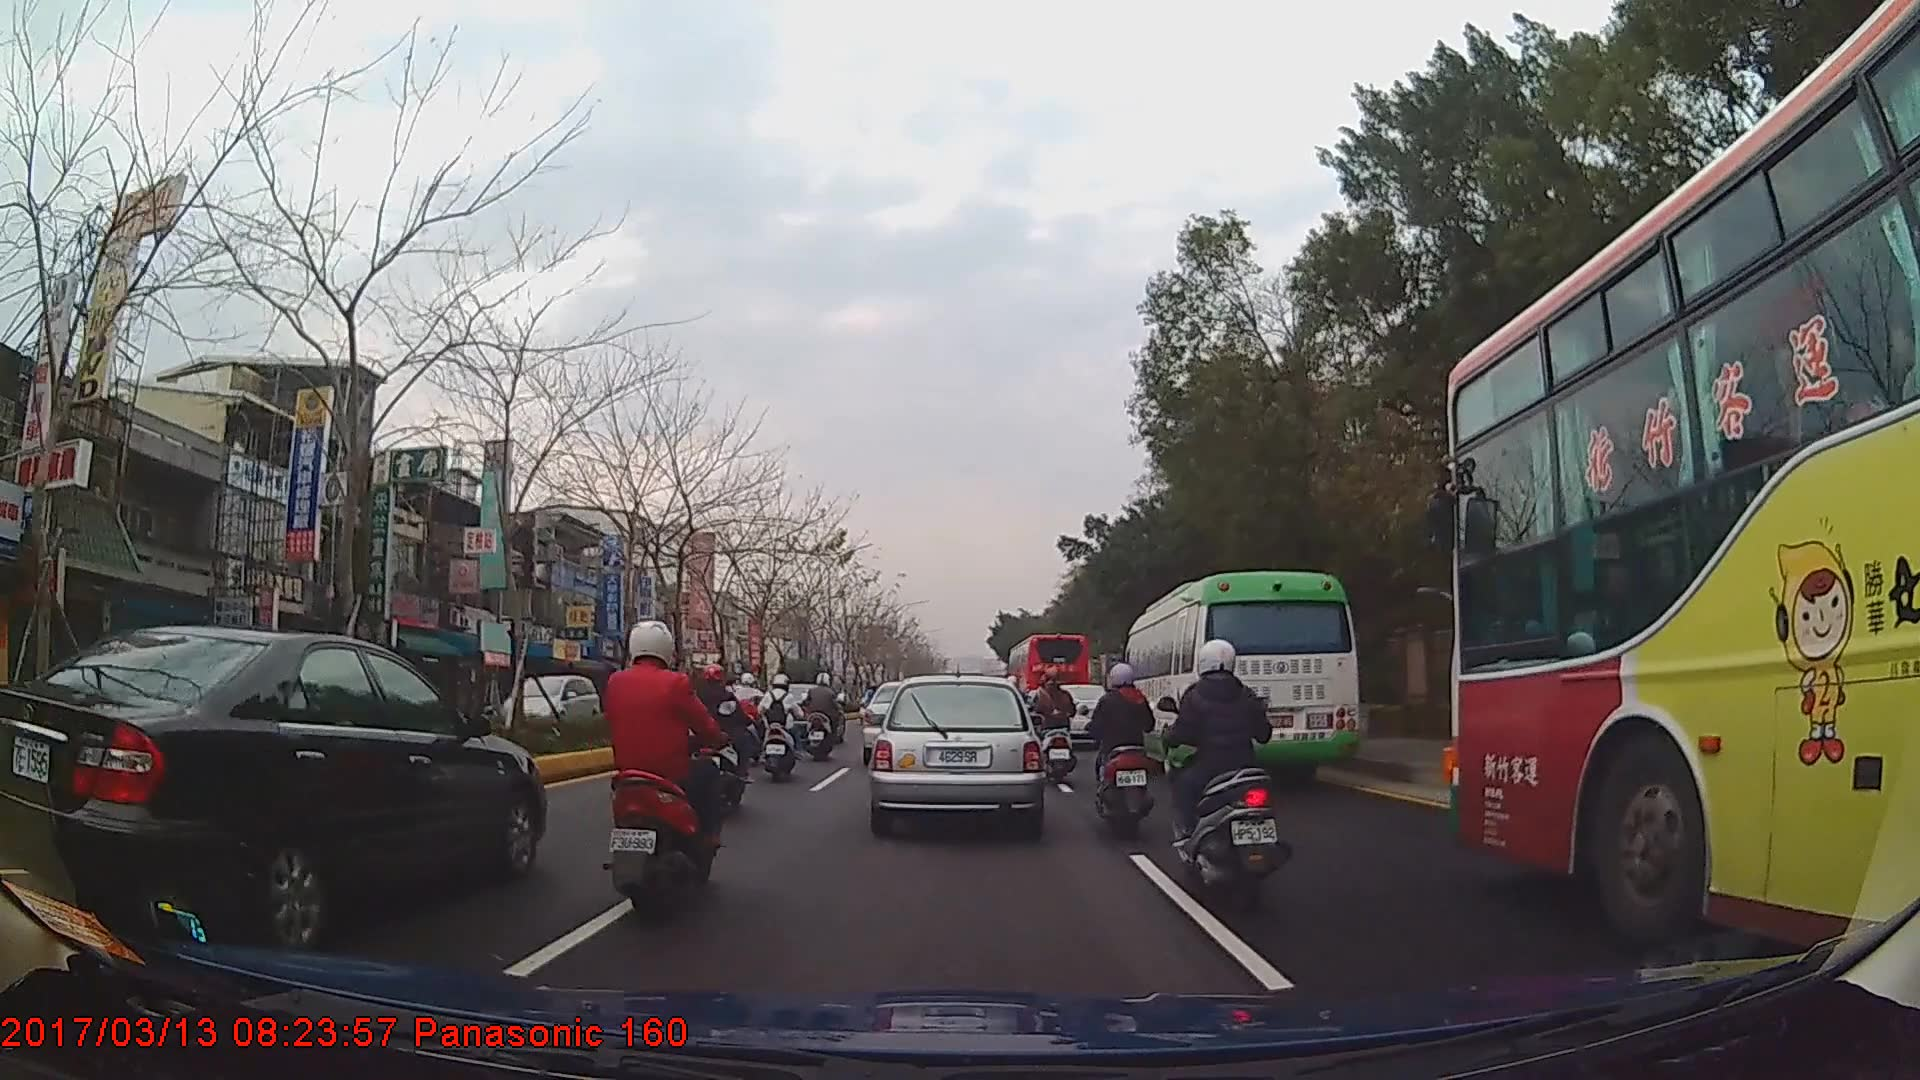rider: (603, 619, 740, 921), (1165, 643, 1295, 907), (1085, 663, 1162, 842), (682, 663, 760, 816), (1035, 663, 1079, 788), (757, 675, 806, 780), (807, 675, 848, 762), (729, 671, 769, 750)
vehicle: (1439, 0, 1920, 967), (0, 623, 545, 955), (1119, 571, 1358, 786), (867, 672, 1040, 831), (1007, 632, 1091, 729), (491, 672, 604, 740)
